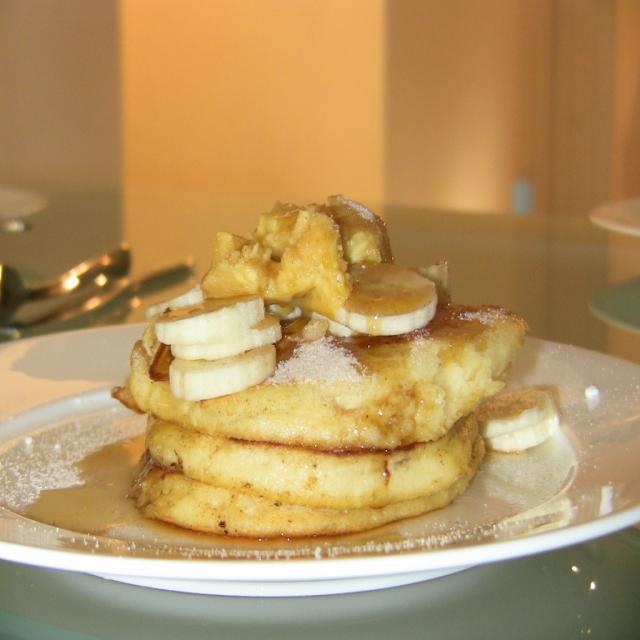Pancake: (115, 300, 527, 448)
